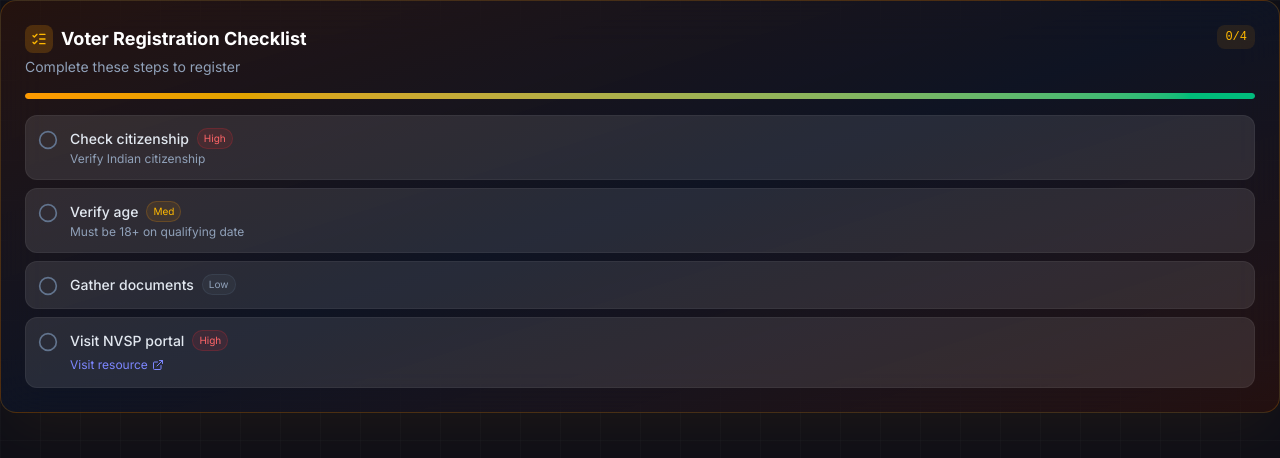
Test: ActionChecklist › toggles check state on click
Click the button with aria-label "Check: Check citizenship". click: (129, 138)
box: x1=25 y1=115 x2=1255 y2=180
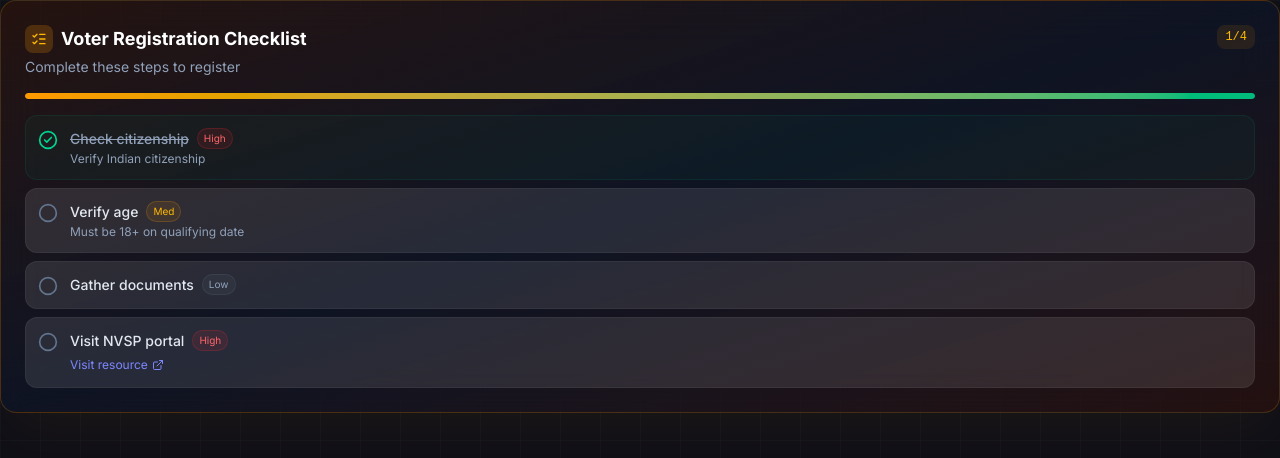
Now the button with aria-label "Uncheck: Check citizenship" is shown, box x1=25 y1=115 x2=1255 y2=180
